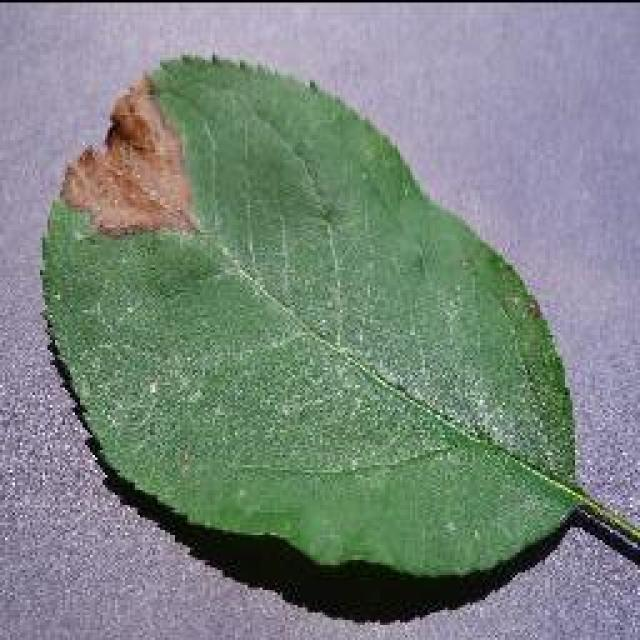black_rot: (45, 65, 220, 248)
